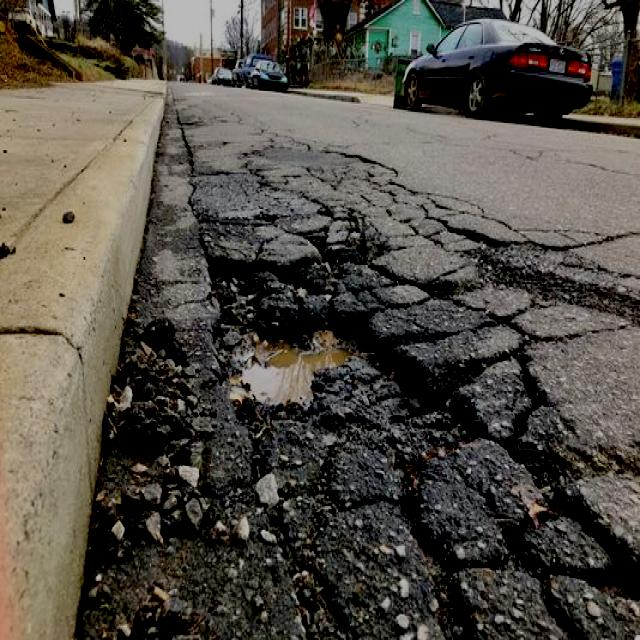Pothole: (166, 155, 478, 619)
